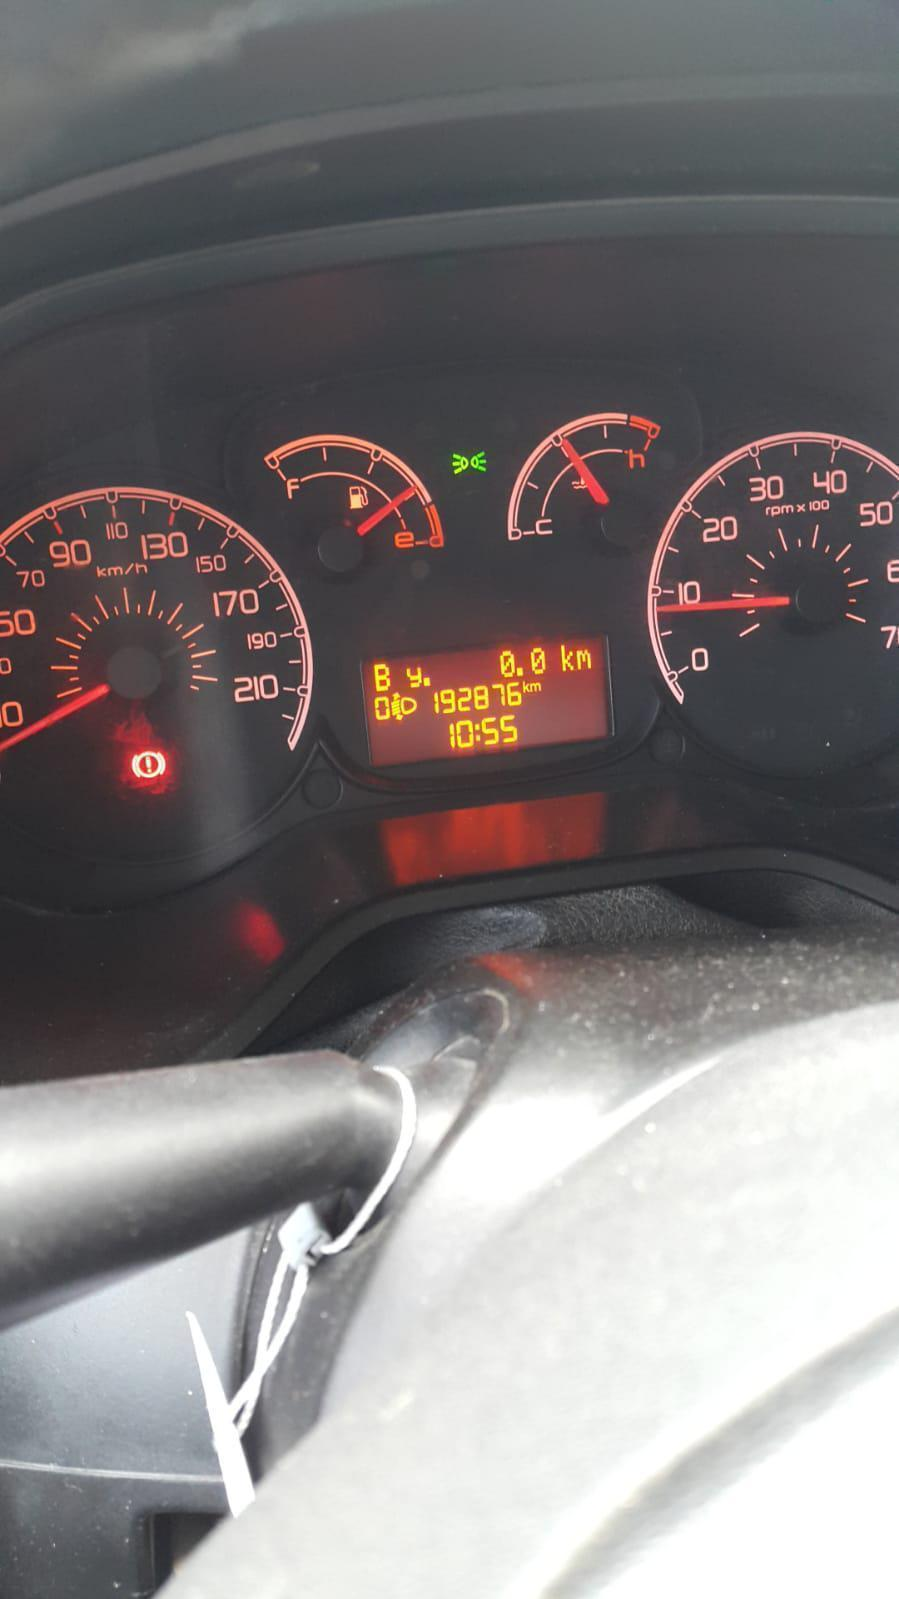,: (422, 674, 432, 687), (515, 663, 524, 677)
0: (528, 645, 549, 677), (495, 647, 516, 677), (456, 719, 473, 749), (373, 695, 391, 722)
1: (447, 722, 456, 750), (432, 690, 439, 716)
2: (457, 685, 472, 712)
5: (499, 712, 521, 745), (481, 715, 501, 745)
6: (507, 679, 521, 709)
7: (491, 682, 506, 708)
8: (473, 684, 488, 711)
9: (439, 686, 456, 715)
X: (371, 661, 393, 691), (558, 640, 575, 675), (576, 647, 595, 674), (405, 666, 423, 690), (474, 722, 482, 745), (529, 682, 544, 692), (522, 678, 530, 694)
odometer: (358, 629, 619, 767)
